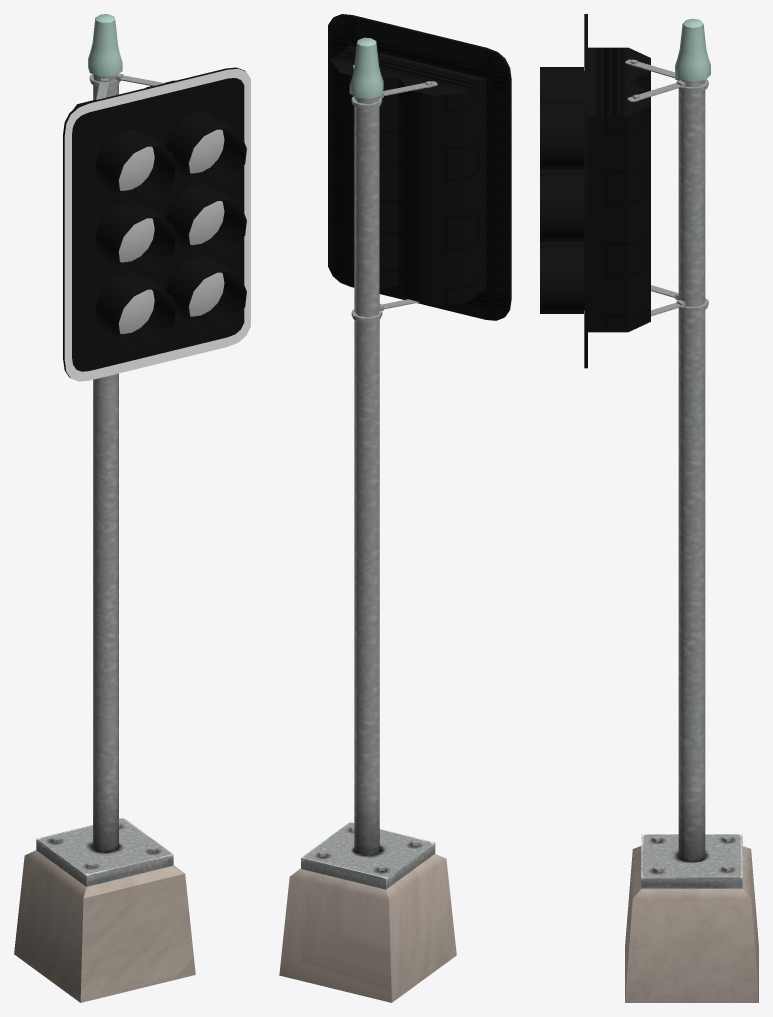
File: TrafficLight03.fbx
3 views of the same model, side by side, from view 1: azimuth 30°, elevation 25°; view 2: azimuth 150°, elevation 25°; view 3: azimuth 270°, elevation 25° (orthographic). The views are drawn at different scales.
Visible parts, largest first — view 1: TrafficLight03; view 2: TrafficLight03; view 3: TrafficLight03.
Part boxes in pixels (bbox=[...]): TrafficLight03: bbox=[14, 14, 250, 1002]; TrafficLight03: bbox=[279, 14, 511, 1002]; TrafficLight03: bbox=[540, 14, 758, 1002].
Bounding box in the file's own units: 1.01 × 4.89 × 1.02.
